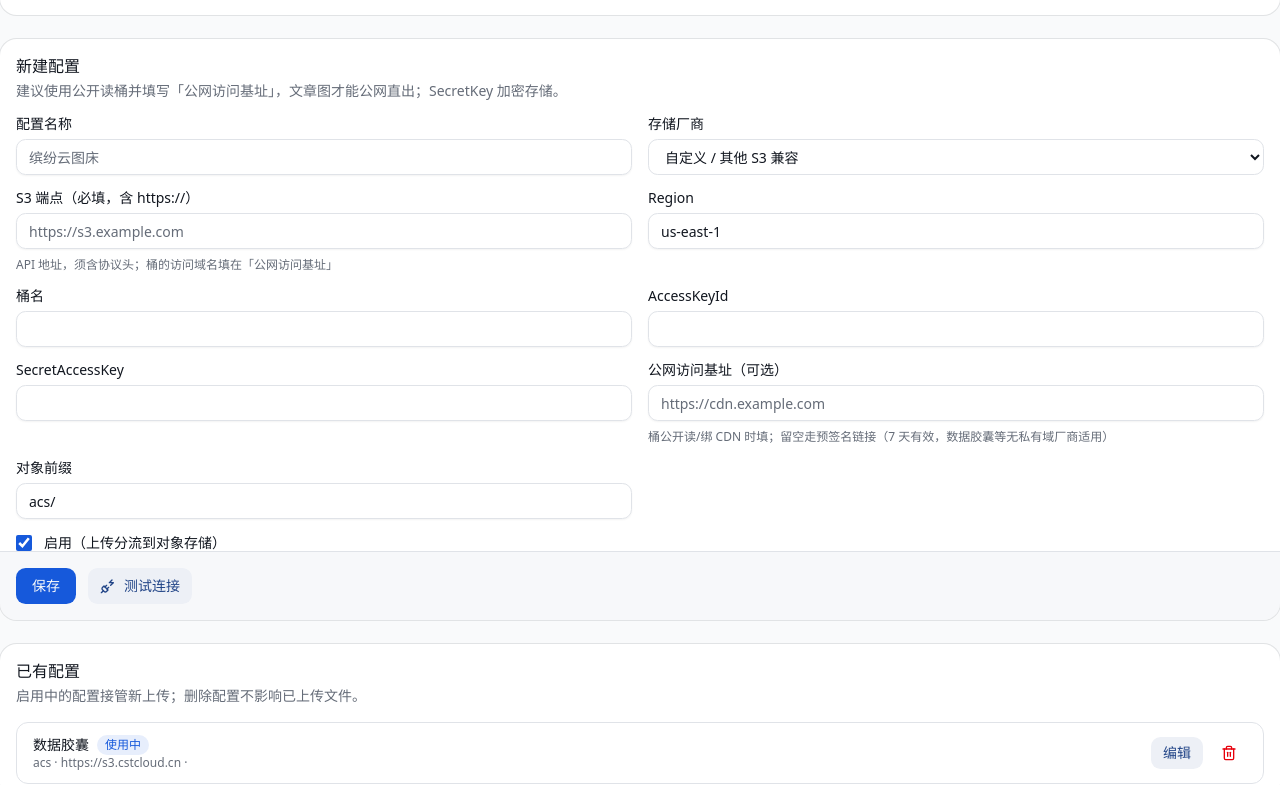
Test case: StorageManager SecretAccessKey 眼睛查看 › 编辑时点眼睛从后端取回已存 SecretAccessKey 并显示明文
(page scrolled)
Expected: the text "数据胶囊" is shown, x1=33 y1=735 x2=89 y2=755
Step 1. Click the button "编辑" → point(1177, 753), box x1=1151 y1=737 x2=1203 y2=769
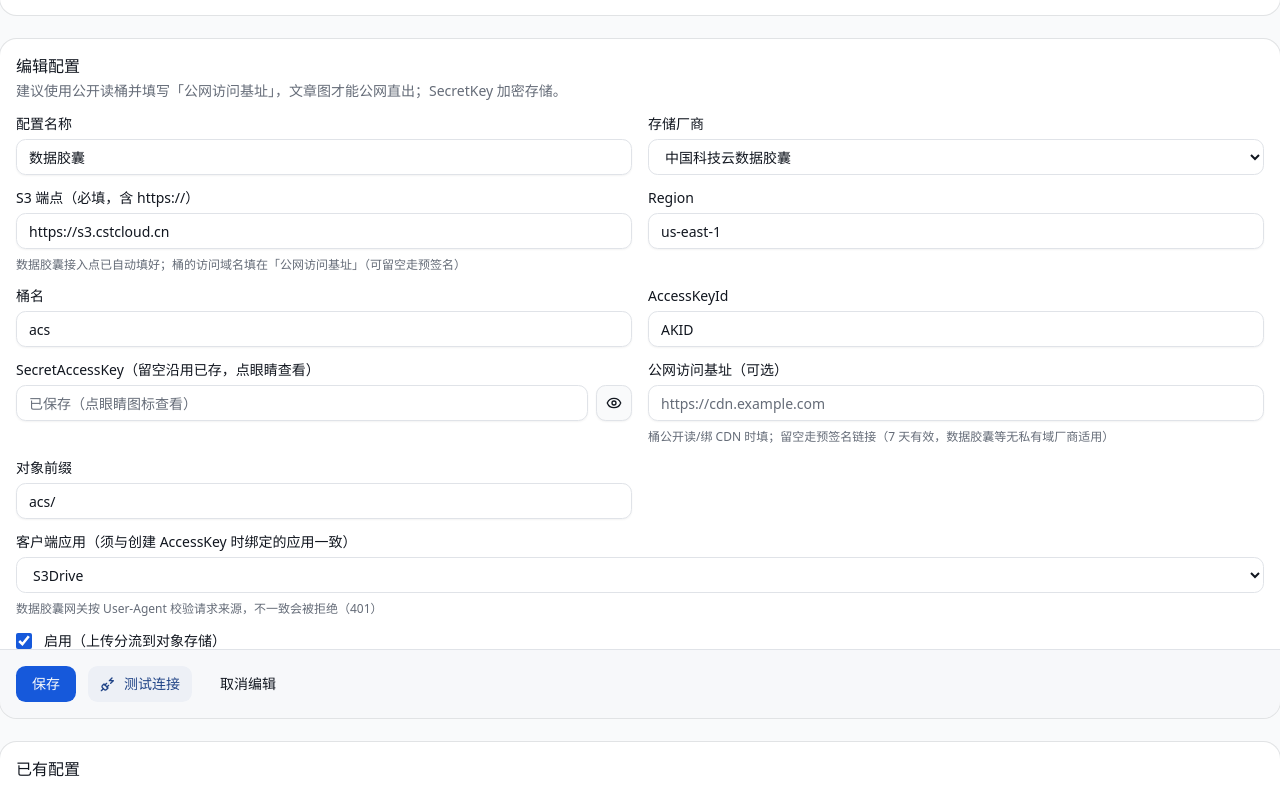
Step 2. Click the button with test id "storage-reveal" → point(614, 403), box x1=596 y1=385 x2=632 y2=421
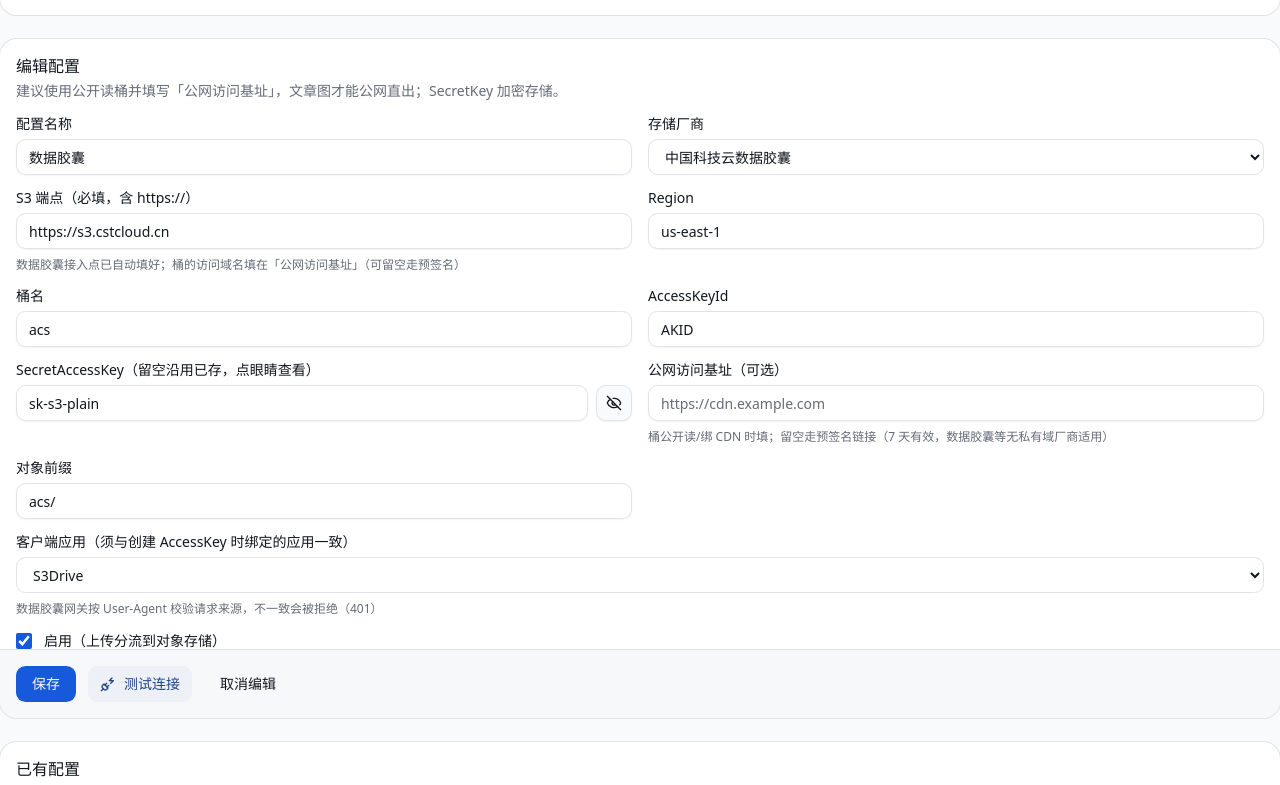
Expected: the field labelled "SecretAccessKey（留空沿用已存，点眼睛查看）" holds "sk-s3-plain", x1=16 y1=385 x2=588 y2=421
